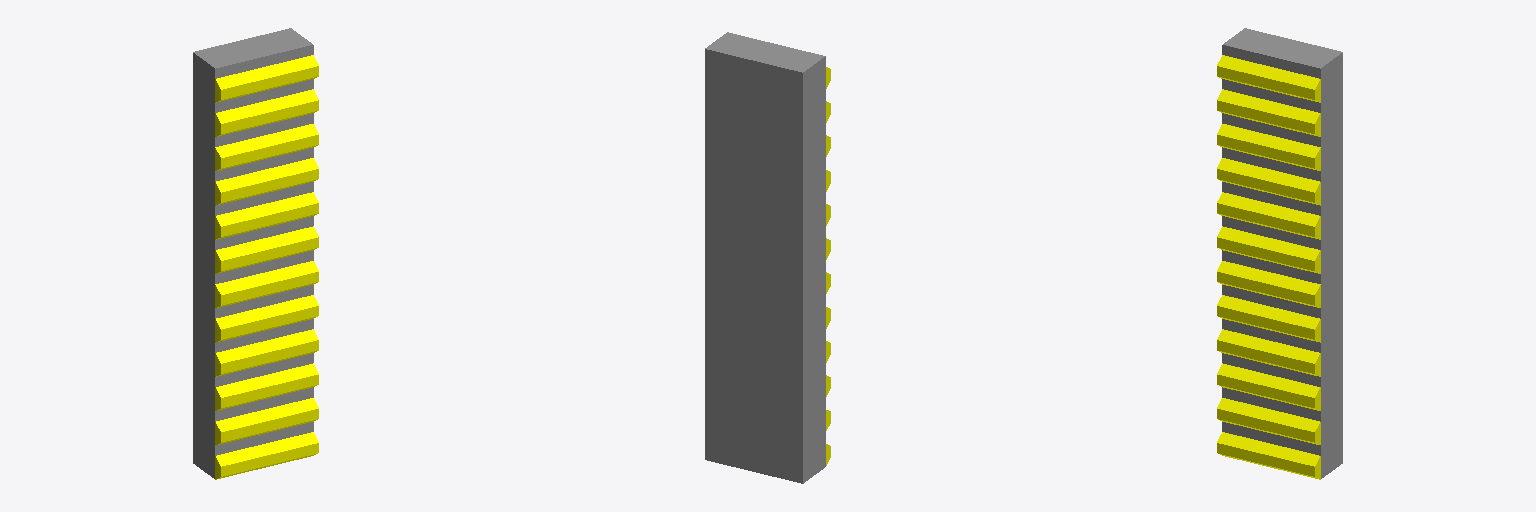
Rendered from DFB_Grating.obj.
3 renders of one model, left to right at view 1: azimuth 30°, elevation 25°; view 2: azimuth 150°, elevation 25°; view 3: azimuth 330°, elevation 25°, orthographic.
Parts seen in each view (by area): view 1: Body27, Body7, Body12, Body9, Body11, Body1, Body2, Body3, Body8, Body10, Body4, Body6 (+1 smaller); view 2: Body27; view 3: Body27, Body7, Body12, Body9, Body11, Body1, Body2, Body3, Body8, Body10, Body4, Body6 (+1 smaller).
Part boxes in pixels (x1,y1,x2,y2): Body27: (193,28,313,478); Body7: (215,158,318,205); Body12: (215,55,318,102); Body9: (215,432,318,479); Body11: (215,192,318,239); Body1: (215,124,318,170); Body2: (215,261,318,307); Body3: (215,398,318,444); Body8: (215,295,318,342); Body10: (215,329,318,376); Body4: (215,363,318,410); Body6: (215,89,318,136); Body27: (705,32,825,483); Body27: (1222,28,1342,478); Body7: (1217,158,1320,205); Body12: (1217,55,1320,102); Body9: (1217,432,1320,479); Body11: (1217,192,1320,239); Body1: (1217,124,1320,170); Body2: (1217,261,1320,307); Body3: (1217,398,1320,444); Body8: (1217,295,1320,342); Body10: (1217,329,1320,376); Body4: (1217,363,1320,410); Body6: (1217,89,1320,136).
Bounding box in the file's own units: 1.5 × 6 × 0.75.